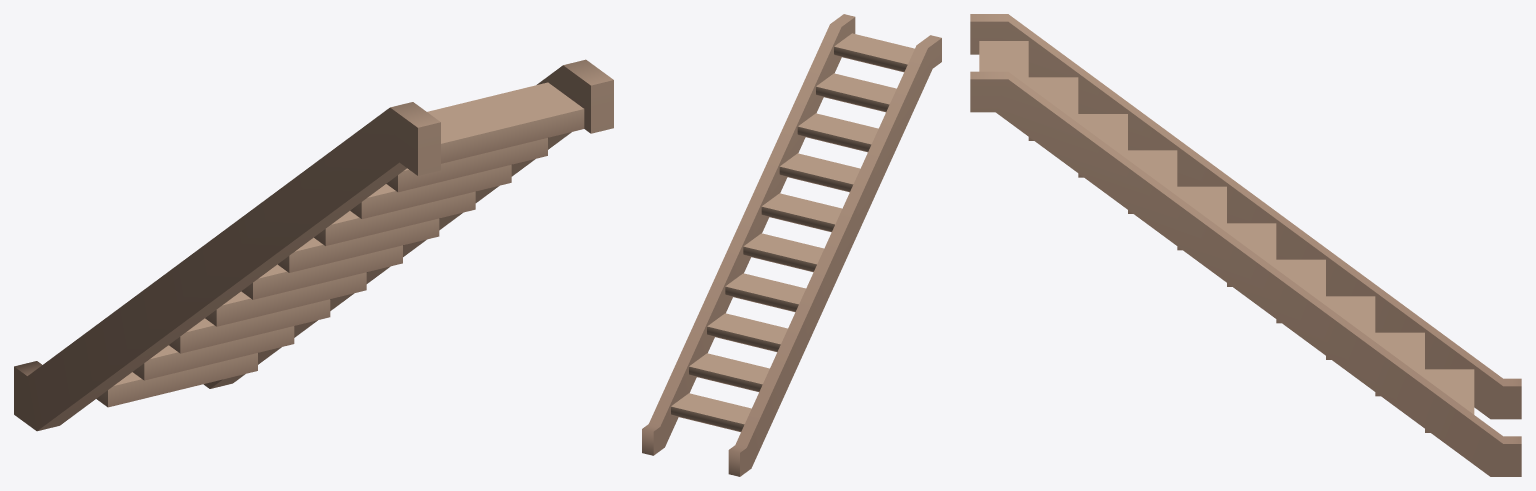
The model's file is stairs-skirts.glb.
3 views of the same model, side by side, from view 1: azimuth 30°, elevation 25°; view 2: azimuth 150°, elevation 25°; view 3: azimuth 270°, elevation 25° (orthographic). The views are drawn at different scales.
Parts seen in each view (by area): view 1: stairs-skirts; view 2: stairs-skirts; view 3: stairs-skirts.
Boxes of the visible parts, x1,y1,x2,y2 form: stairs-skirts: (14,59,613,431); stairs-skirts: (642,14,941,476); stairs-skirts: (970,14,1521,476).
Bounding box in the file's own units: 0.8514 × 2.42 × 3.04.
